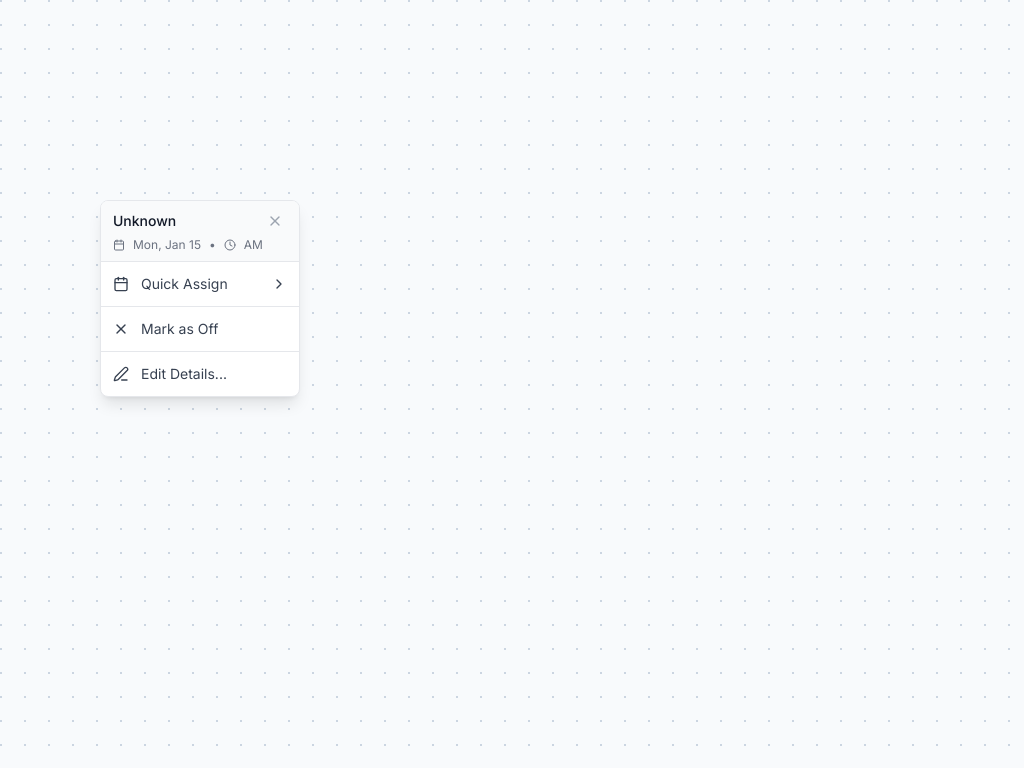
Test case: QuickAssignMenu › Quick Assign Submenu › should show recent rotations section when provided
Click the menu item "Quick Assign": (200,284) [101,266,299,302]
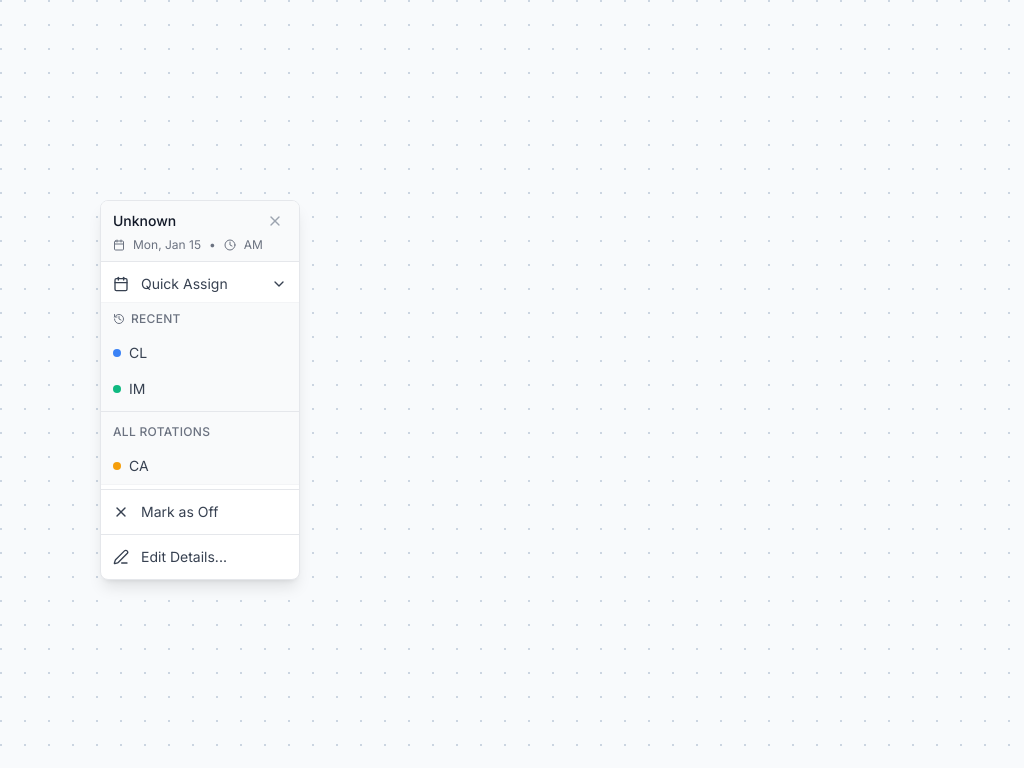
Expected: the text "Recent" is shown, [113,311,181,326]
